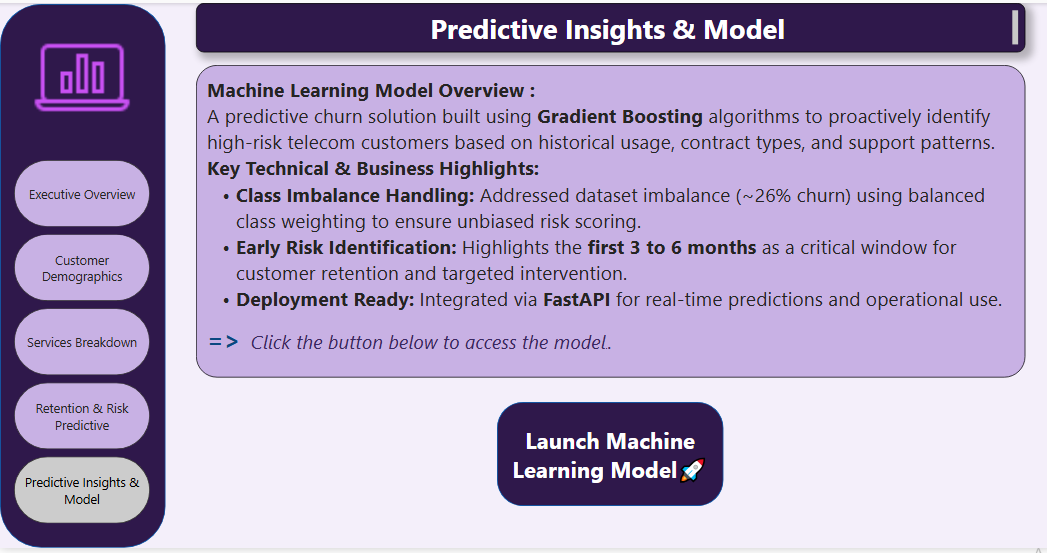

Layout of this report page (visuals, bound fields, positions):
{"tool":"powerbi","page":{"name":"Predictive Insights & Model","canvas":[1450,750],"ordinal":4},"visuals":[{"type":"textbox","box":[270.2,0,1141.2,67.9],"z":0},{"type":"shape","box":[0,1.3,227.7,747.9],"z":1000},{"type":"image","box":[44.5,35,137.5,136.1],"z":2000},{"type":"pageNavigator","box":[18.9,215.6,187.3,502.6],"z":3000},{"type":"textbox","box":[269.5,84.9,1141.4,429.9],"z":5000},{"type":"shape","box":[683.6,549.2,311.5,143.2],"z":6000}]}

Visuals, with their boxes in screenshot pixels (x1, y1, x2, y2), scaled from the page's 1450x750 canvas onto the 1047x553 screenshot:
textbox: {"x1": 195, "y1": 0, "x2": 1019, "y2": 50}
shape: {"x1": 0, "y1": 1, "x2": 164, "y2": 552}
image: {"x1": 32, "y1": 26, "x2": 131, "y2": 126}
pageNavigator: {"x1": 14, "y1": 159, "x2": 149, "y2": 530}
textbox: {"x1": 195, "y1": 63, "x2": 1019, "y2": 380}
shape: {"x1": 494, "y1": 405, "x2": 719, "y2": 511}
